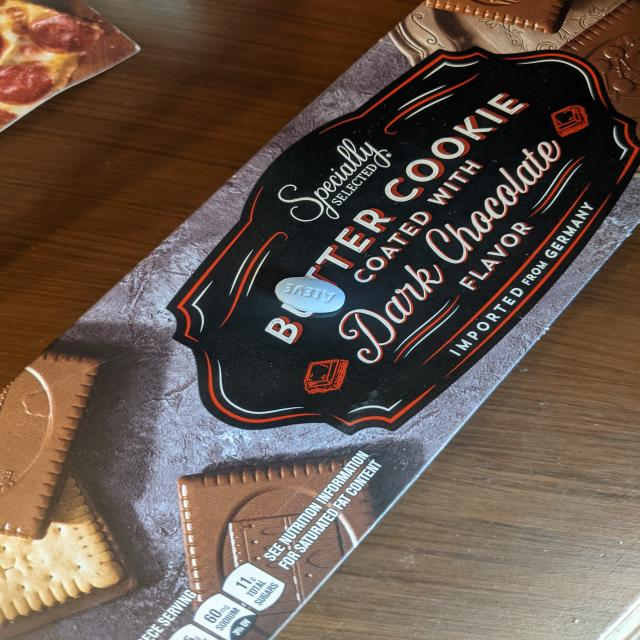non-organic waste: (274, 276, 346, 314)
